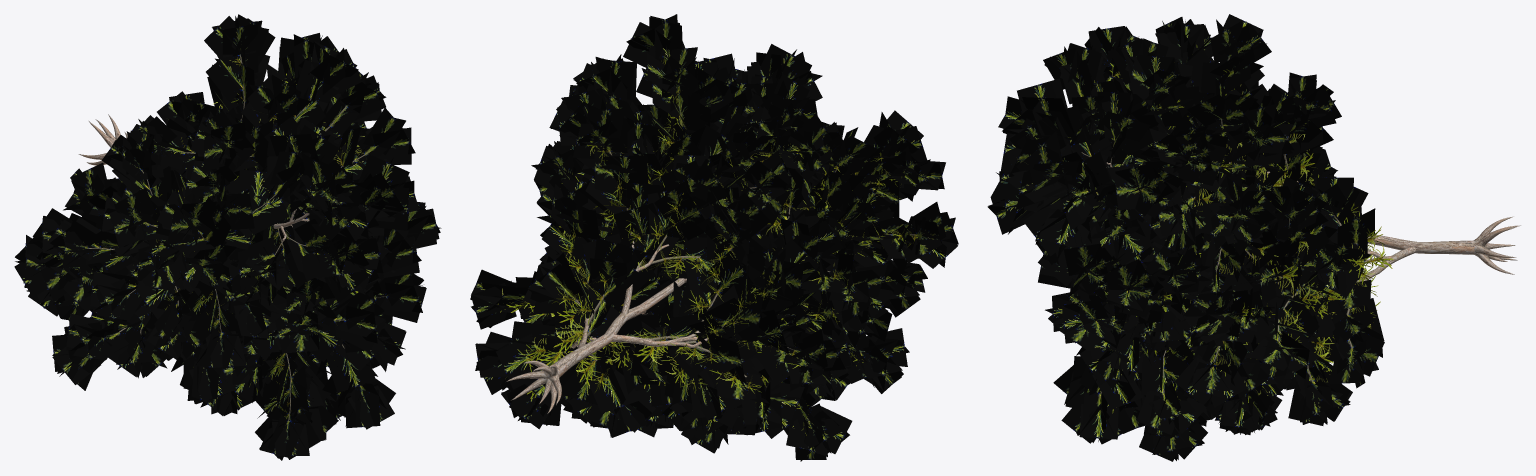
3 views of the same model, side by side, from view 1: azimuth 30°, elevation 25°; view 2: azimuth 150°, elevation 25°; view 3: azimuth 270°, elevation 25° (orthographic). The views are drawn at different scales.
Visible parts, largest first — view 1: OC56_4; view 2: OC56_4; view 3: OC56_4.
Boxes of the visible parts, bbox=[...] form: OC56_4: bbox=[14, 14, 441, 460]; OC56_4: bbox=[470, 14, 958, 461]; OC56_4: bbox=[987, 14, 1520, 461].
Bounding box in the file's own units: 2.62 × 2.55 × 3.
7 materials, 7 textured.
